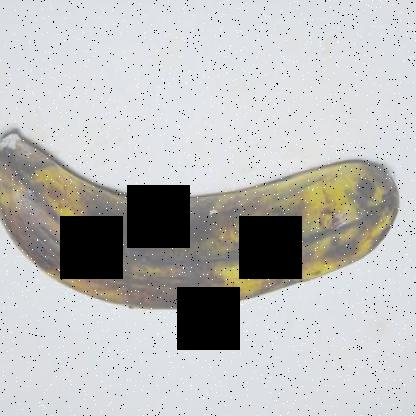overripe: (1, 109, 406, 318)
